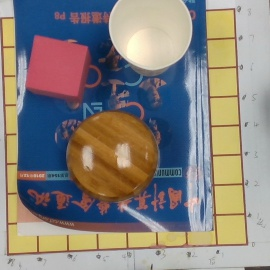chess: (68, 110, 160, 205)
cup: (105, 1, 193, 84)
